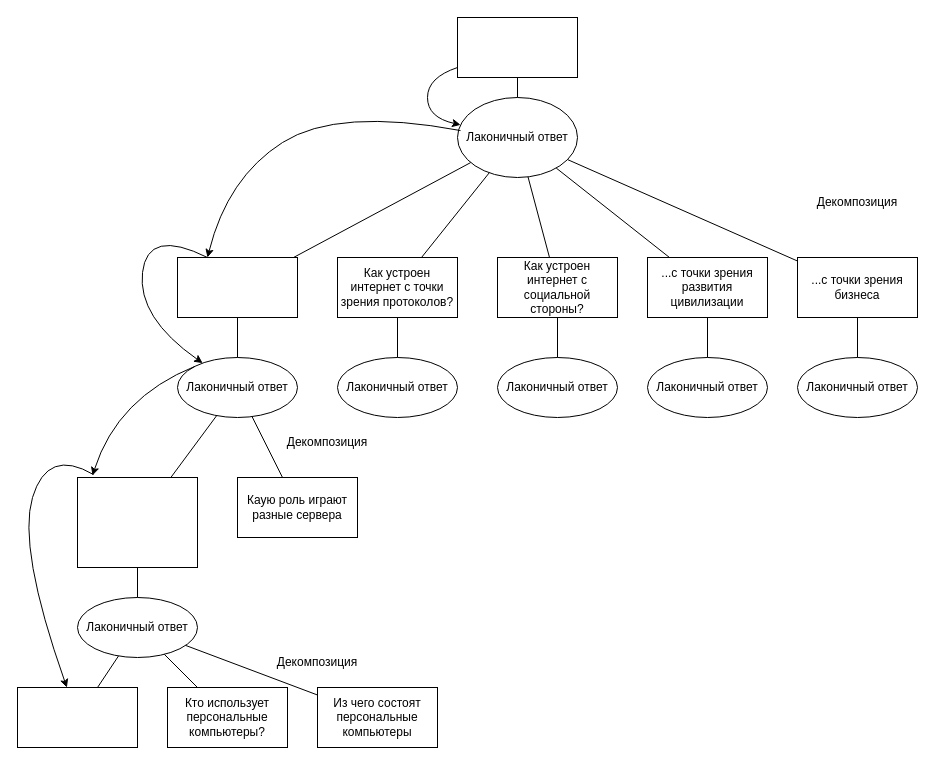
Image size: 935x765. Some labels were removed from this diagram. Here are the shapes that lost their labels. From the top down, the centre of each, then its label:
point 517,47: Как устроен интернет?
point 237,287: Как устроен интернет с физической стороны?
point 137,522: Какую роль играют персональные комбютеры?
point 77,717: Какие есть виды персональных компьютеров?
